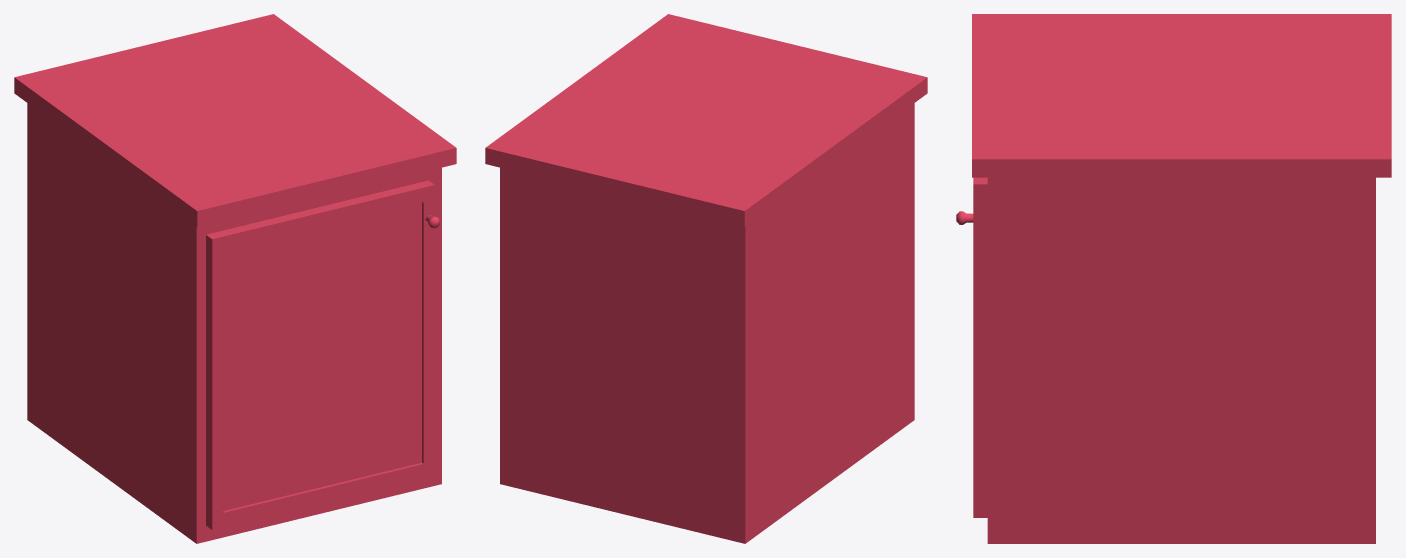
Rendered from armario.fbx.
The picture shows the model from 3 angles, left to right: view 1: azimuth 30°, elevation 25°; view 2: azimuth 150°, elevation 25°; view 3: azimuth 270°, elevation 25°; orthographic projection. The views are drawn at different scales.
Visible parts, largest first — view 1: Armário; view 2: Armário; view 3: Armário.
Boxes of the visible parts, <box> form: Armário: <box>14,14,456,543</box>; Armário: <box>485,14,927,543</box>; Armário: <box>956,14,1391,543</box>.
Size of the model in its own units: 168 by 210 by 213.
